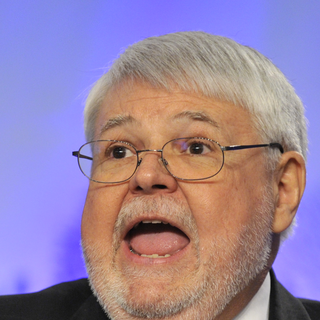eye: (178, 136, 221, 162), (100, 140, 139, 164)
